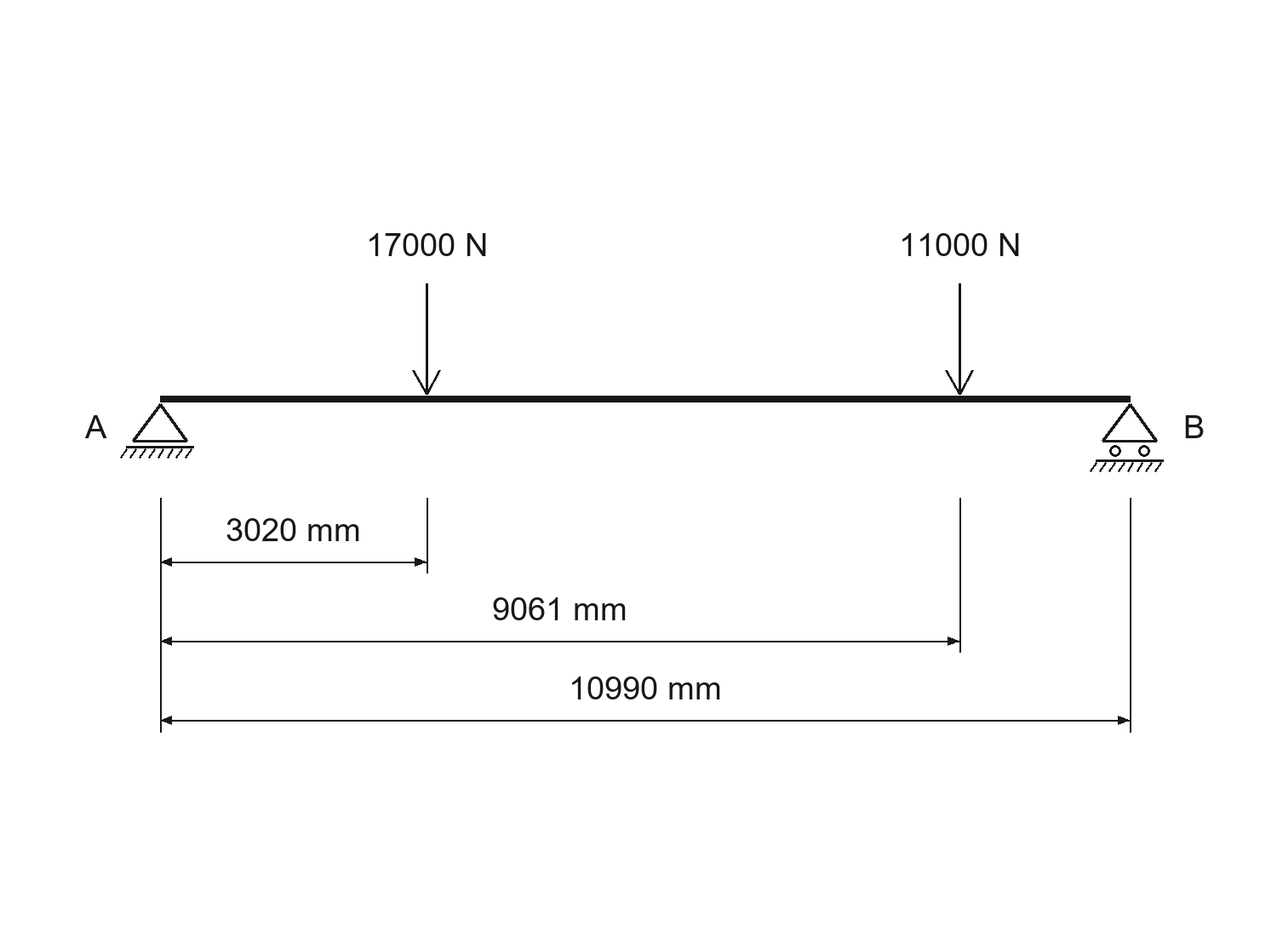pin_support: (120, 403, 194, 459)
point_load: (412, 283, 441, 395), (945, 283, 974, 395)
roller_support: (1090, 403, 1164, 472)
